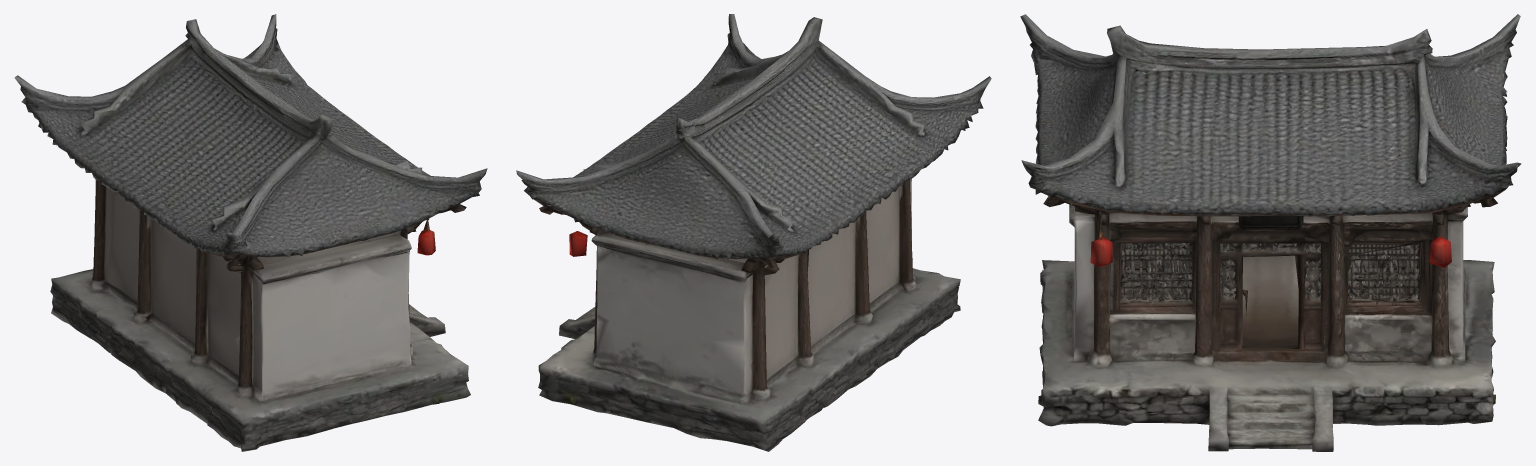
The model's file is v-hall.glb.
The picture shows the model from 3 angles, left to right: view 1: azimuth 30°, elevation 25°; view 2: azimuth 150°, elevation 25°; view 3: azimuth 270°, elevation 25°; orthographic projection. The views are drawn at different scales.
Parts seen in each view (by area): view 1: tripo_node_b5e29d39-9b44-45ba-9e72-2218ff024ec7; view 2: tripo_node_b5e29d39-9b44-45ba-9e72-2218ff024ec7; view 3: tripo_node_b5e29d39-9b44-45ba-9e72-2218ff024ec7.
Part boxes in pixels (bbox=[...]): tripo_node_b5e29d39-9b44-45ba-9e72-2218ff024ec7: bbox=[14, 14, 487, 451]; tripo_node_b5e29d39-9b44-45ba-9e72-2218ff024ec7: bbox=[516, 14, 991, 451]; tripo_node_b5e29d39-9b44-45ba-9e72-2218ff024ec7: bbox=[1020, 14, 1521, 451].
Bounding box in the file's own units: 0.7997 × 0.738 × 1.
Materials: 1 (1 with a texture image).
